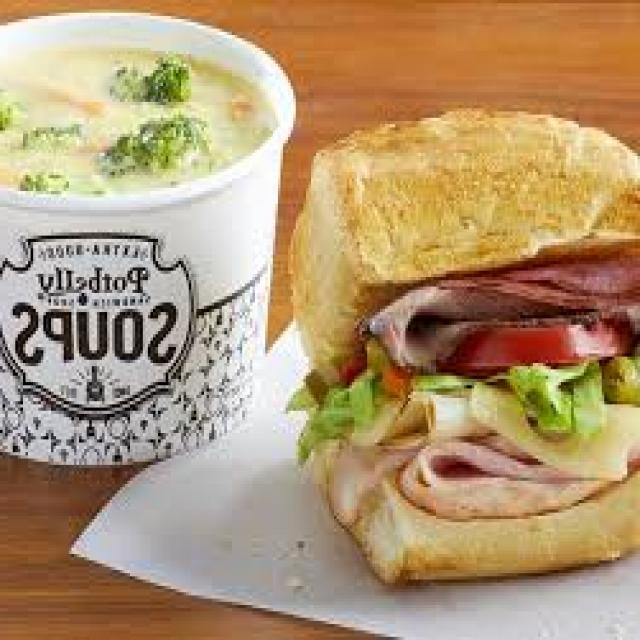Sandwich: (289, 65, 638, 600)
